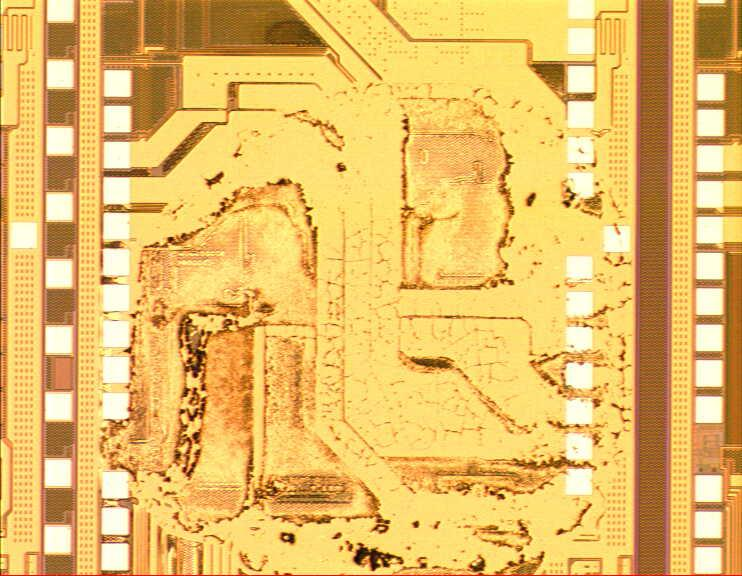BLOCK ETCH: (94, 72, 637, 576)
